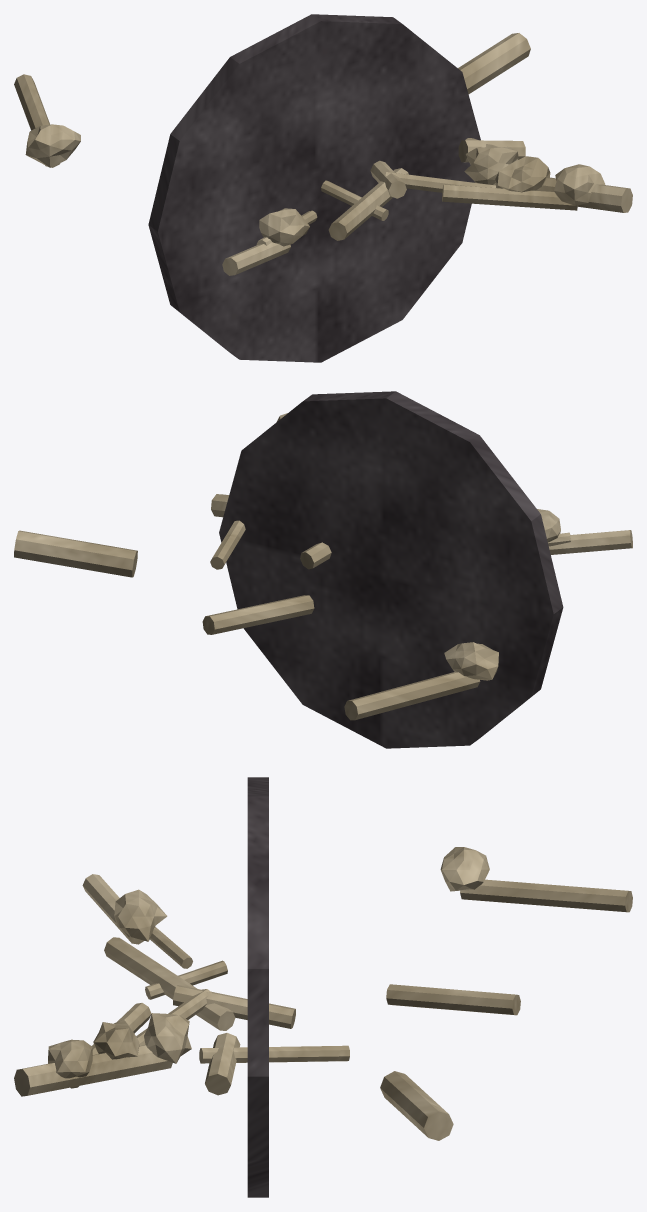
File: 0240_bone_heap_15.glb
3 renders of one model, top to bottom at view 1: azimuth 30°, elevation 25°; view 2: azimuth 150°, elevation 25°; view 3: azimuth 270°, elevation 25°, orthographic. The views are drawn at different scales.
Visible parts, largest first — view 1: ash, bone; view 2: ash, bone; view 3: bone, ash.
Boxes of the visible parts, box(x1,y1,x2,y2) form: ash: box(148, 14, 480, 362); bone: box(14, 33, 632, 275); ash: box(219, 391, 563, 748); bone: box(14, 413, 632, 720); bone: box(14, 847, 632, 1140); ash: box(247, 777, 268, 1197).
Bounding box in the file's own units: 2.38 × 1.6 × 2.35.
Materials: 2 (2 with a texture image).
